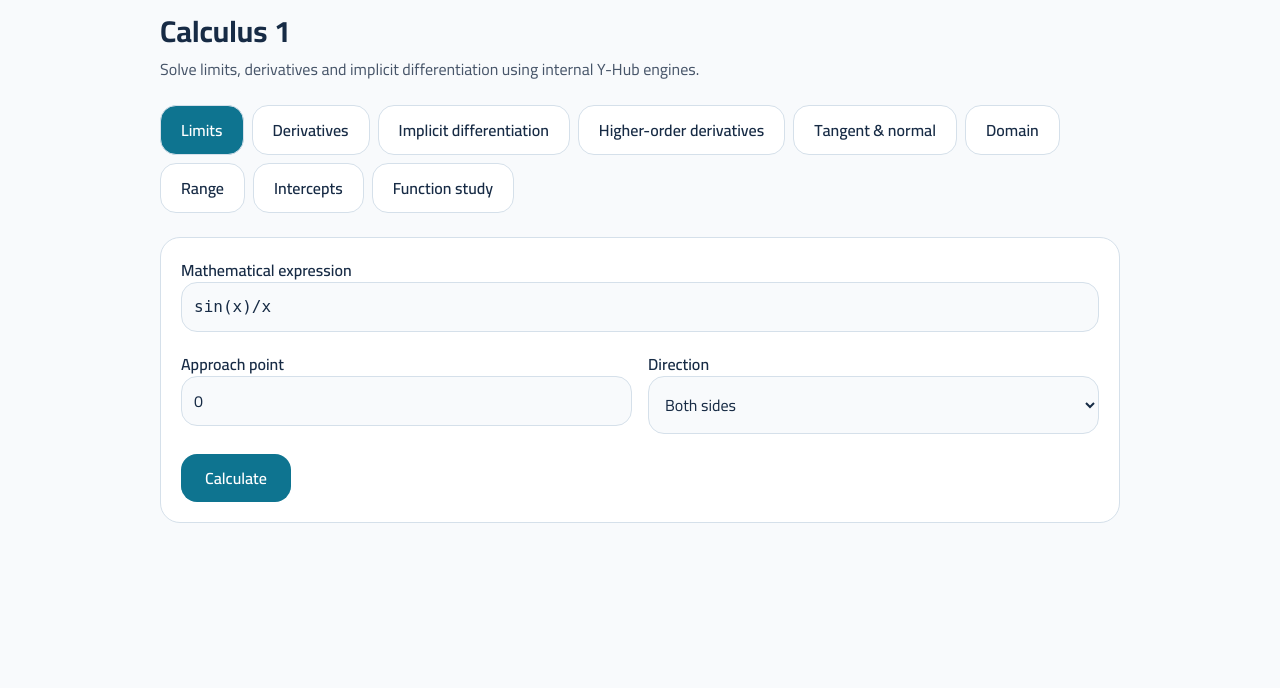
Scenario: Higher-order derivative UI › computes a selected derivative order
Click the tab "Higher-order derivatives" at (682, 130), box [578, 105, 785, 155]
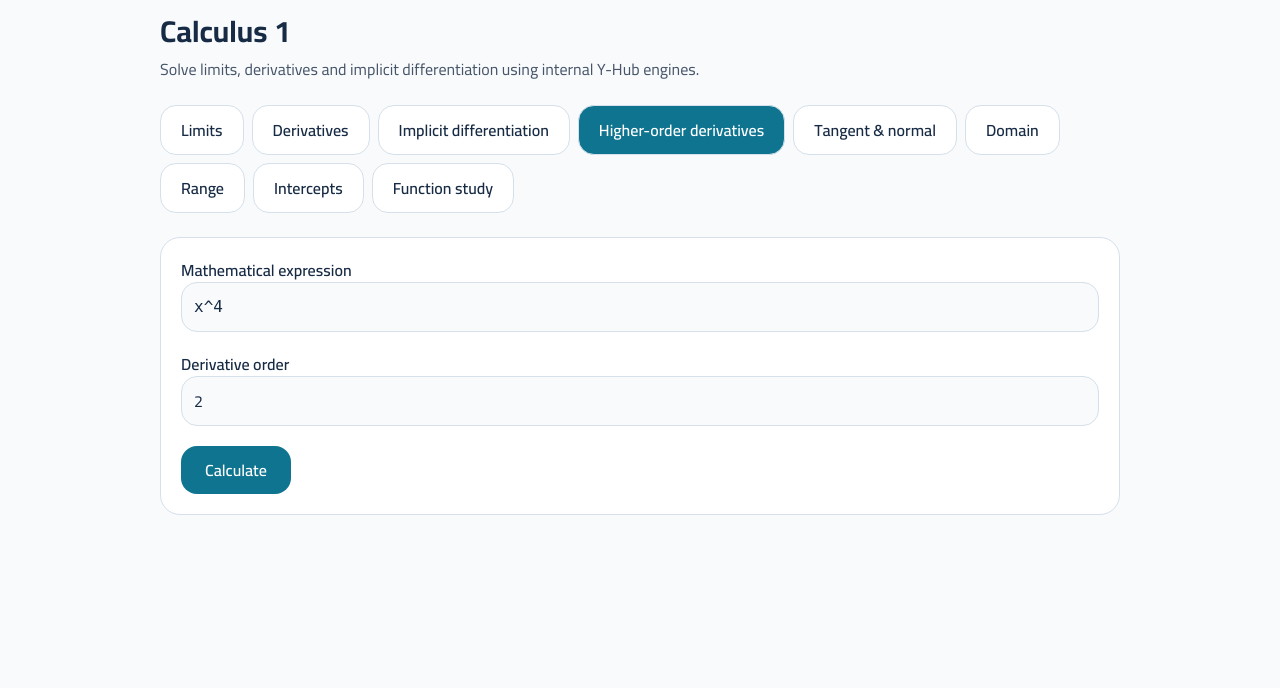
Check: the number field labelled "Derivative order" holds "2"
Replace the text in the number field labelled "Derivative order" with "3" at (640, 401), box [181, 376, 1099, 426]
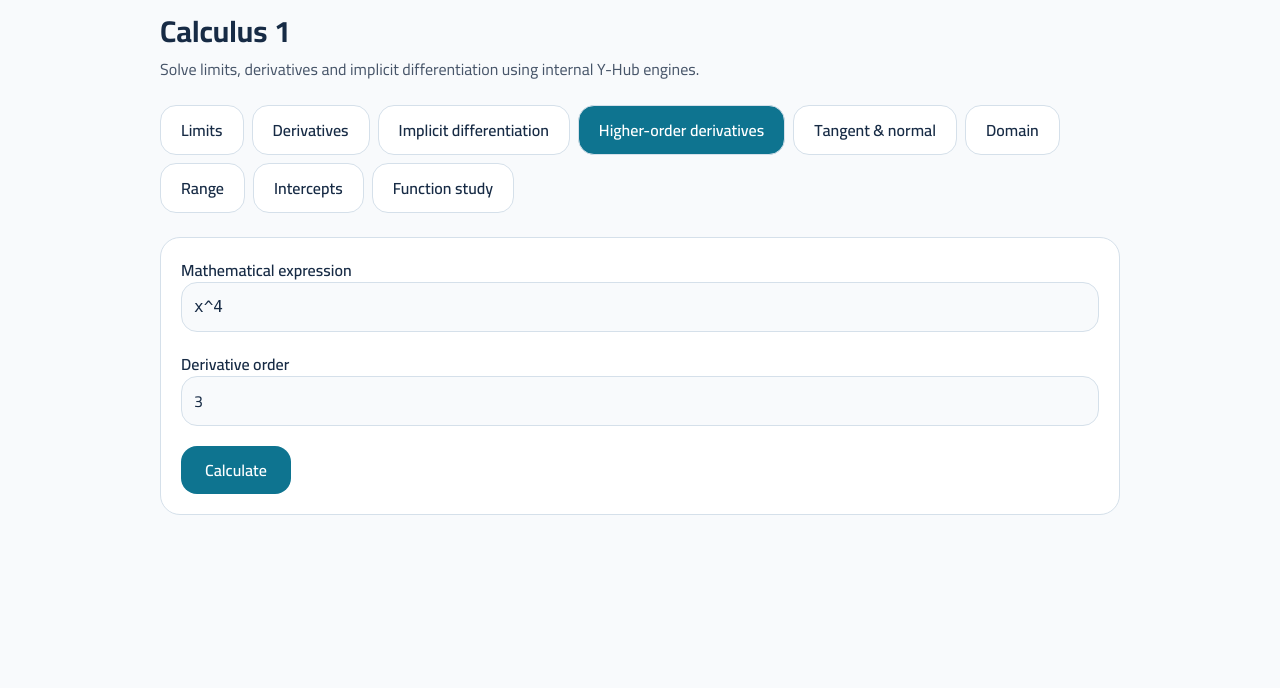
Click the button "Calculate" at (236, 470), box [181, 446, 291, 494]
(page scrolled)
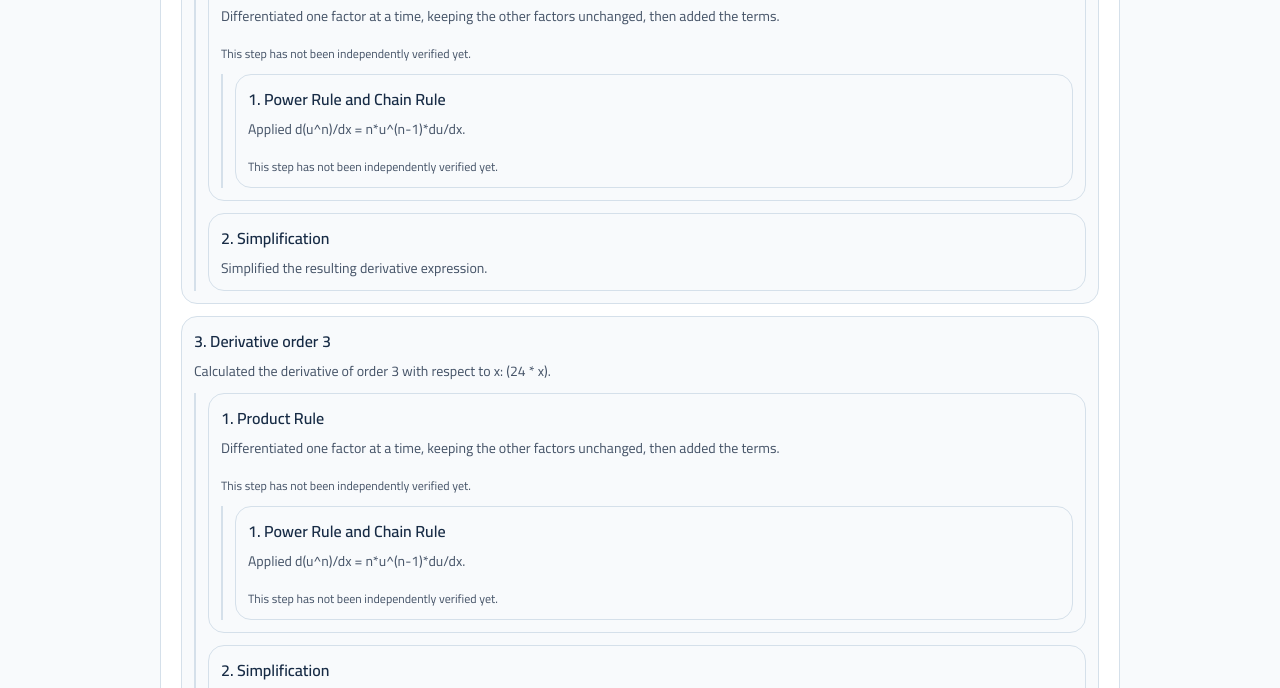
Check: the heading "3. Derivative order 3" is shown, box [194, 326, 331, 356]
